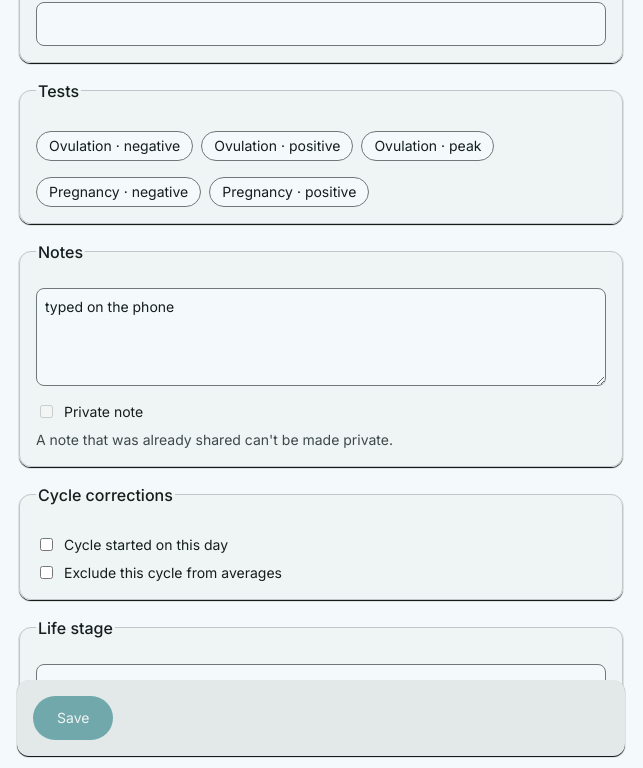
DayPage (issue #1254) › re-seeds a declined (lost LWW) save from the refetched day before Save re-enables (#1289)
(page scrolled)
Replace the text in the text box named "Notes" with "declined day": {"x": 321, "y": 336} 36,288 -> 606,386
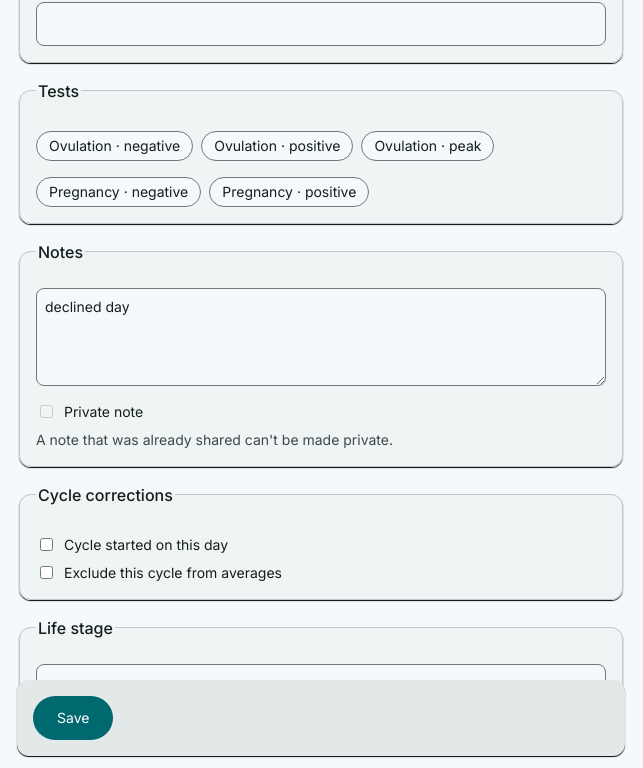
Click the button "Save": {"x": 73, "y": 718} 33,696 -> 113,740
(page scrolled)
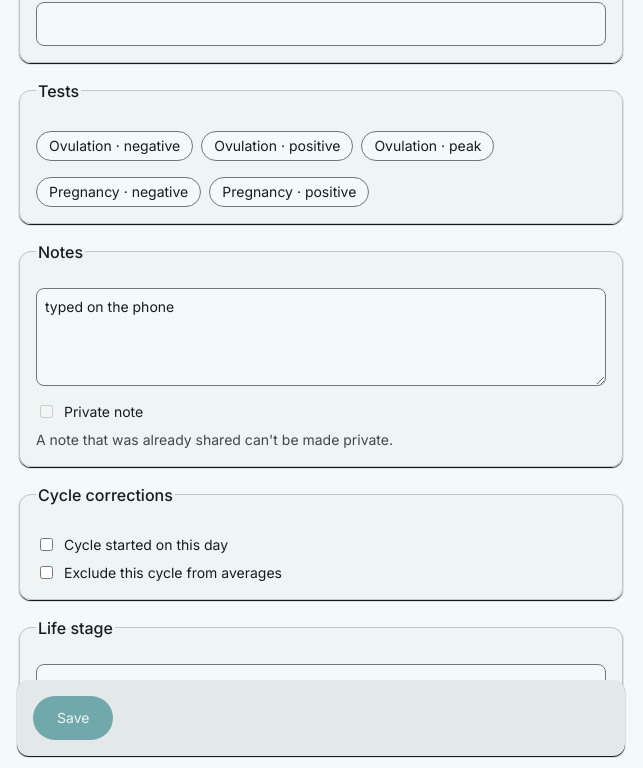
Result: the text box named "Notes" holds "typed on the phone" at 36,288 -> 606,386
Result: the button "Save" is disabled at 33,696 -> 113,740
